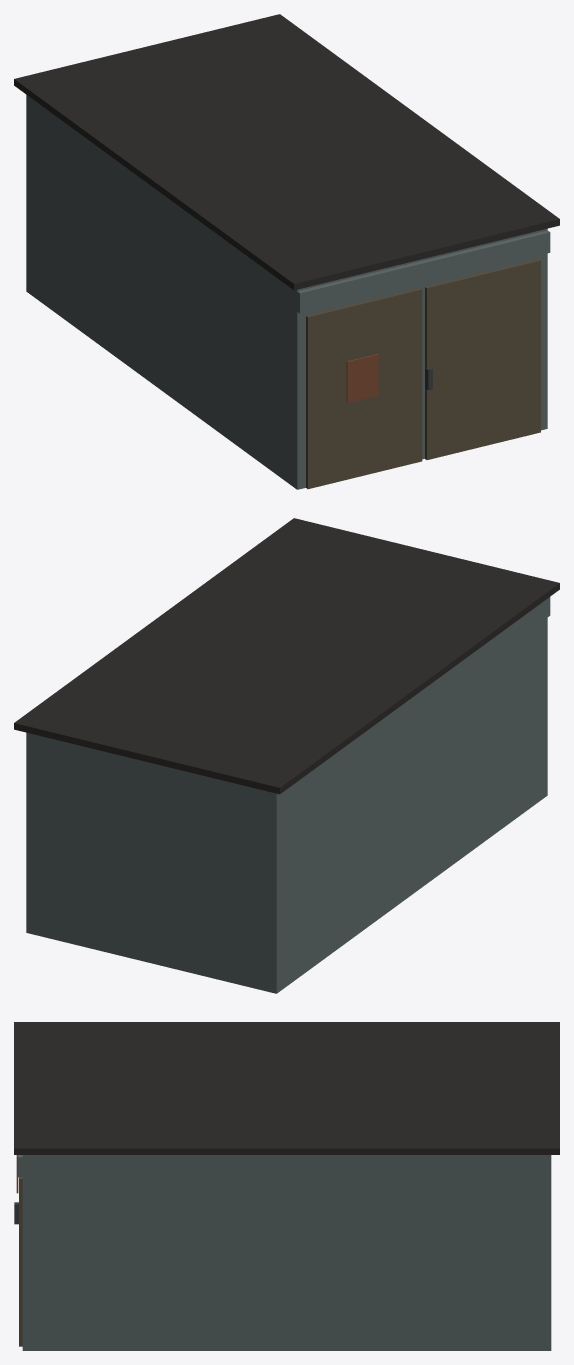
The model's file is garage.glb.
3 views of the same model, one above another, from view 1: azimuth 30°, elevation 25°; view 2: azimuth 150°, elevation 25°; view 3: azimuth 270°, elevation 25° (orthographic). The views are drawn at different scales.
Parts seen in each view (by area): view 1: Garage; view 2: Garage; view 3: Garage.
Part boxes in pixels (box(x1,y1,x2,y2)): Garage: box(14, 14, 559, 489); Garage: box(14, 518, 559, 993); Garage: box(14, 1022, 559, 1350).
Bounding box in the file's own units: 3.4 × 2.58 × 6.2.
